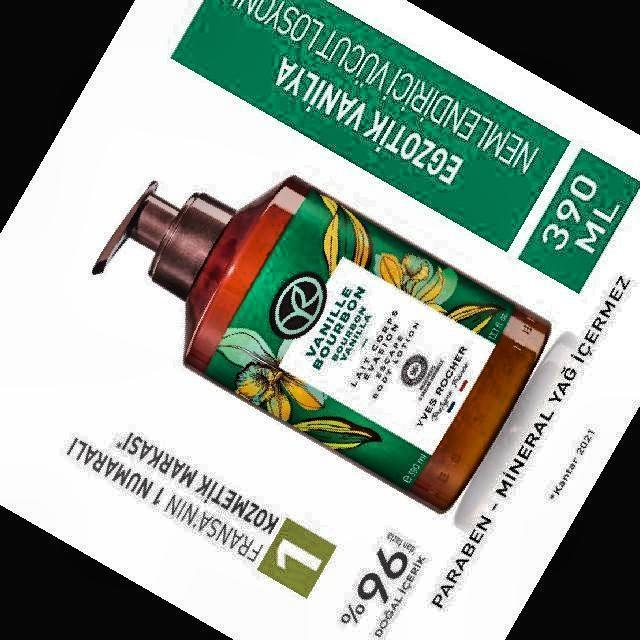plastic: (94, 176, 549, 509)
